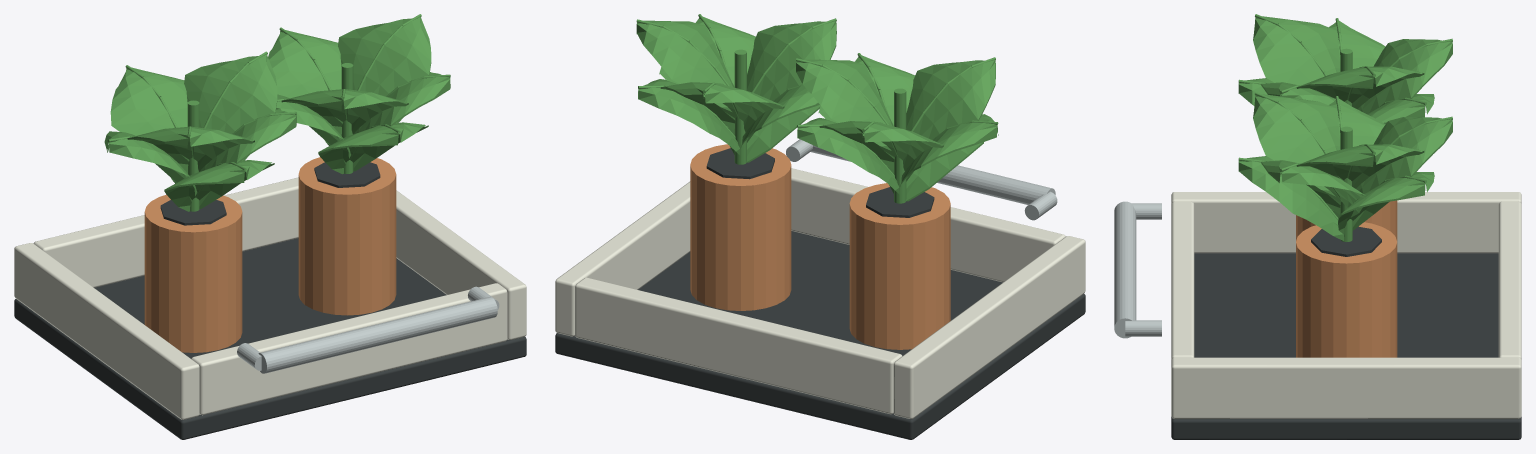
Rendered from generation-ship-hydroponics-generation-ship-hydroponic-20f5d64f__31474.glb.
3 views of the same model, side by side, from view 1: azimuth 30°, elevation 25°; view 2: azimuth 150°, elevation 25°; view 3: azimuth 270°, elevation 25° (orthographic). The views are drawn at different scales.
Visible parts, largest first — view 1: generation-ship-hydroponics-root-crop-cartridge_1, generation-ship-hydroponics-root-crop-cartridge_3, generation-ship-hydroponics-root-crop-cartridge_2, generation-ship-hydroponics-root-crop-cartridge_0, generation-ship-hydroponics-root-crop-cartridge_4; view 2: generation-ship-hydroponics-root-crop-cartridge_1, generation-ship-hydroponics-root-crop-cartridge_3, generation-ship-hydroponics-root-crop-cartridge_2, generation-ship-hydroponics-root-crop-cartridge_0, generation-ship-hydroponics-root-crop-cartridge_4; view 3: generation-ship-hydroponics-root-crop-cartridge_1, generation-ship-hydroponics-root-crop-cartridge_3, generation-ship-hydroponics-root-crop-cartridge_0, generation-ship-hydroponics-root-crop-cartridge_2, generation-ship-hydroponics-root-crop-cartridge_4.
Boxes of the visible parts, bbox=[...] form: generation-ship-hydroponics-root-crop-cartridge_1: bbox=[14, 177, 526, 419]; generation-ship-hydroponics-root-crop-cartridge_3: bbox=[104, 14, 450, 211]; generation-ship-hydroponics-root-crop-cartridge_2: bbox=[144, 157, 396, 352]; generation-ship-hydroponics-root-crop-cartridge_0: bbox=[14, 162, 526, 439]; generation-ship-hydroponics-root-crop-cartridge_4: bbox=[237, 286, 499, 373]; generation-ship-hydroponics-root-crop-cartridge_1: bbox=[555, 168, 1085, 418]; generation-ship-hydroponics-root-crop-cartridge_3: bbox=[636, 14, 998, 203]; generation-ship-hydroponics-root-crop-cartridge_2: bbox=[690, 144, 950, 349]; generation-ship-hydroponics-root-crop-cartridge_0: bbox=[555, 148, 1085, 439]; generation-ship-hydroponics-root-crop-cartridge_4: bbox=[786, 139, 1057, 220]; generation-ship-hydroponics-root-crop-cartridge_1: bbox=[1171, 192, 1521, 418]; generation-ship-hydroponics-root-crop-cartridge_3: bbox=[1238, 14, 1452, 241]; generation-ship-hydroponics-root-crop-cartridge_0: bbox=[1171, 226, 1521, 439]; generation-ship-hydroponics-root-crop-cartridge_2: bbox=[1296, 200, 1397, 357]; generation-ship-hydroponics-root-crop-cartridge_4: bbox=[1114, 201, 1161, 338].
Bounding box in the file's own units: 0.45 × 0.3403 × 0.442.
